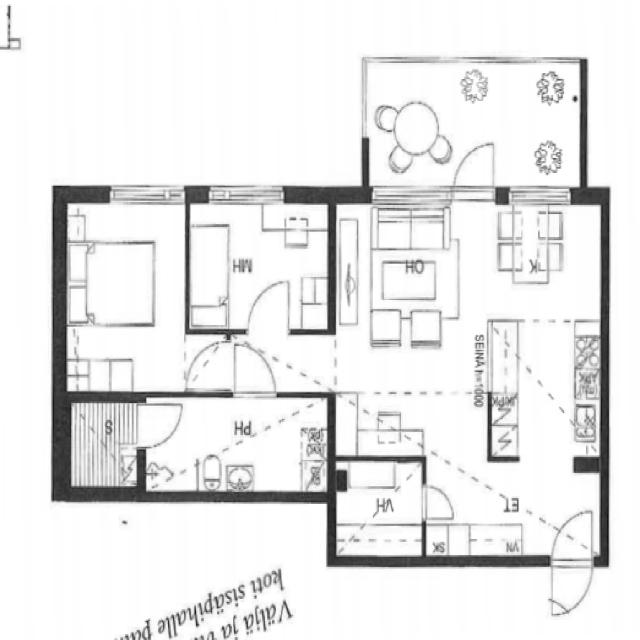door: (543, 504, 598, 620), (242, 276, 296, 341), (448, 138, 501, 203), (228, 341, 280, 401), (134, 393, 186, 452), (183, 338, 232, 394), (415, 475, 459, 529)
window: (102, 174, 190, 211), (204, 178, 290, 208), (502, 180, 576, 208)
zone: (332, 196, 471, 470), (58, 193, 181, 394), (186, 198, 330, 334), (421, 454, 601, 562), (142, 394, 328, 496), (484, 318, 602, 465), (332, 457, 426, 561), (56, 396, 145, 496)
